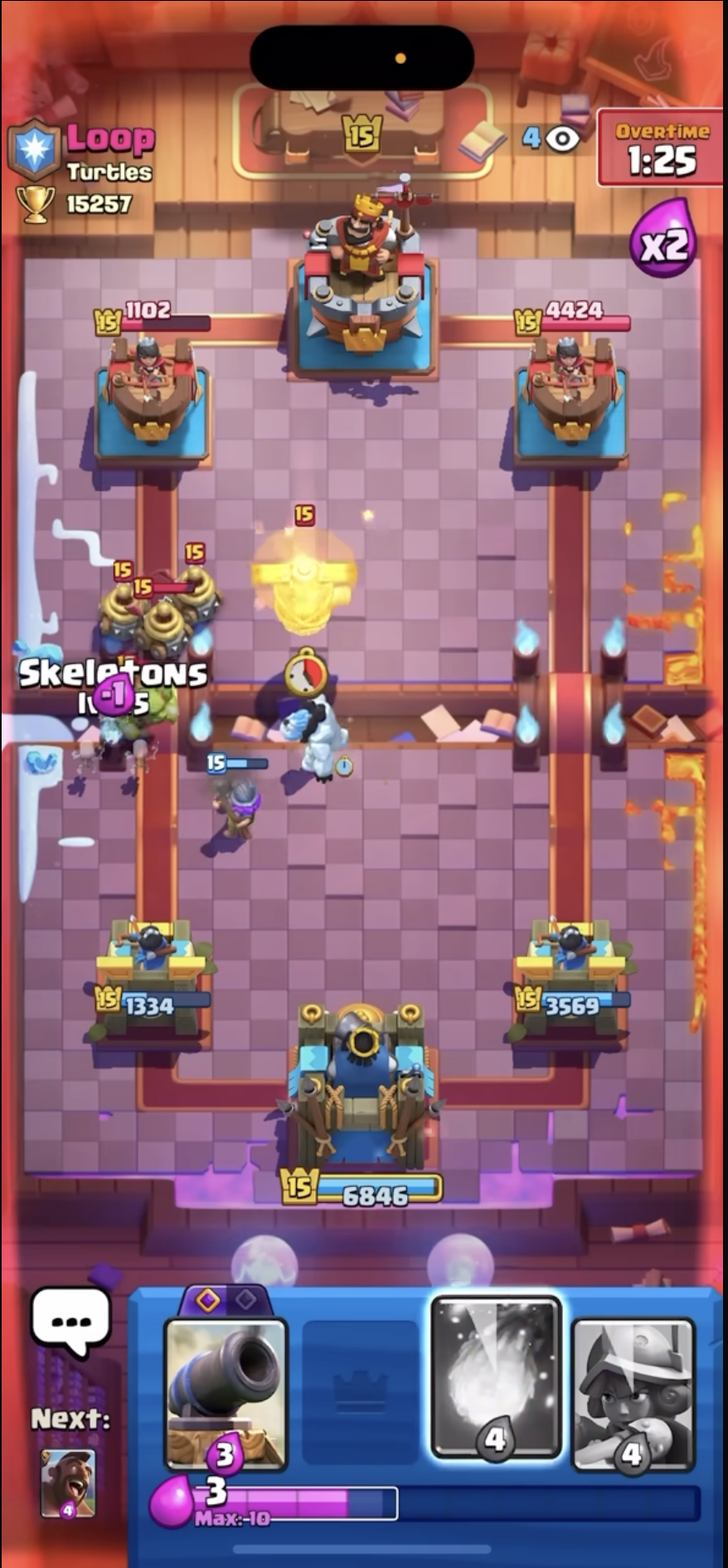flying-machine: (257, 504, 356, 643)
zappie: (170, 538, 229, 622), (95, 559, 150, 636), (139, 590, 193, 659)
